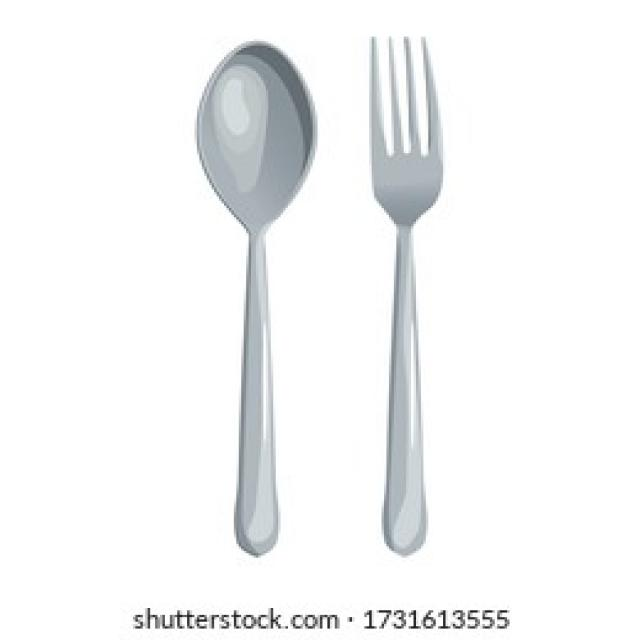fork: (358, 31, 446, 562)
spoon: (186, 34, 327, 568)
